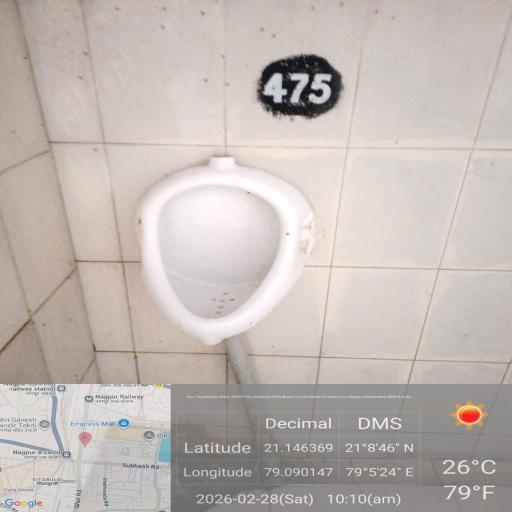clean_floor: (23, 340, 472, 512), (10, 11, 512, 152)
clean_urinal: (103, 132, 356, 376)
